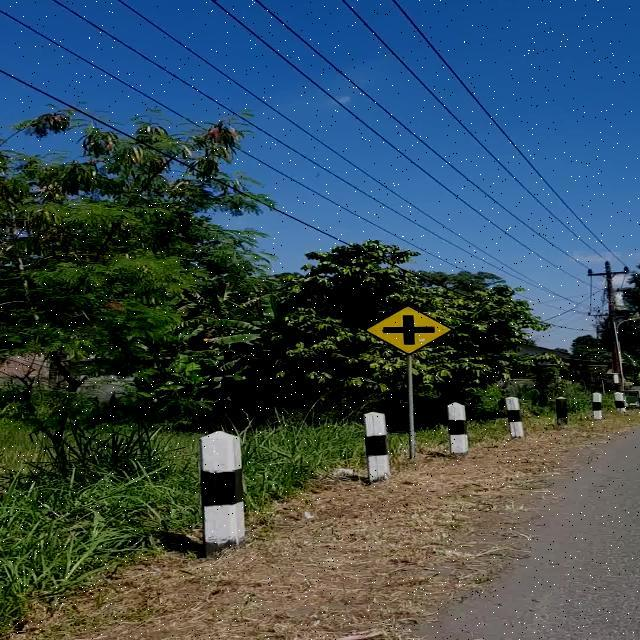Persimpangan 4: (366, 306, 452, 354)
